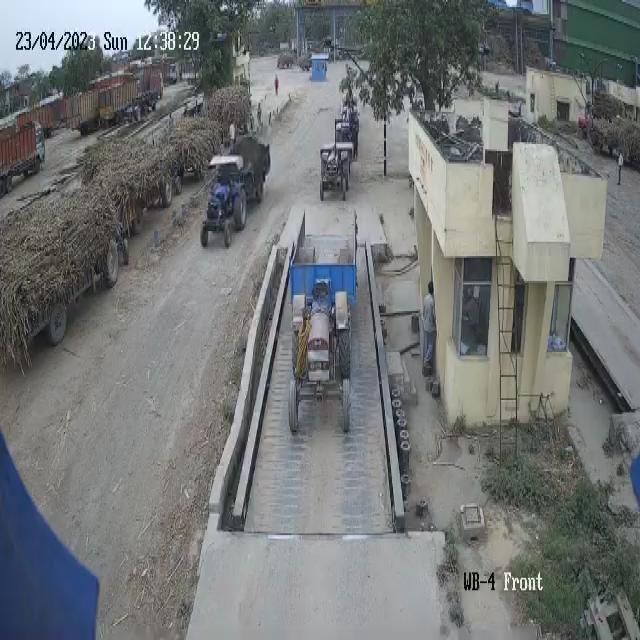Tratores - v5 YOLO V8L 2024-11-13: (286, 284, 356, 442), (201, 149, 247, 247), (321, 138, 354, 199)
